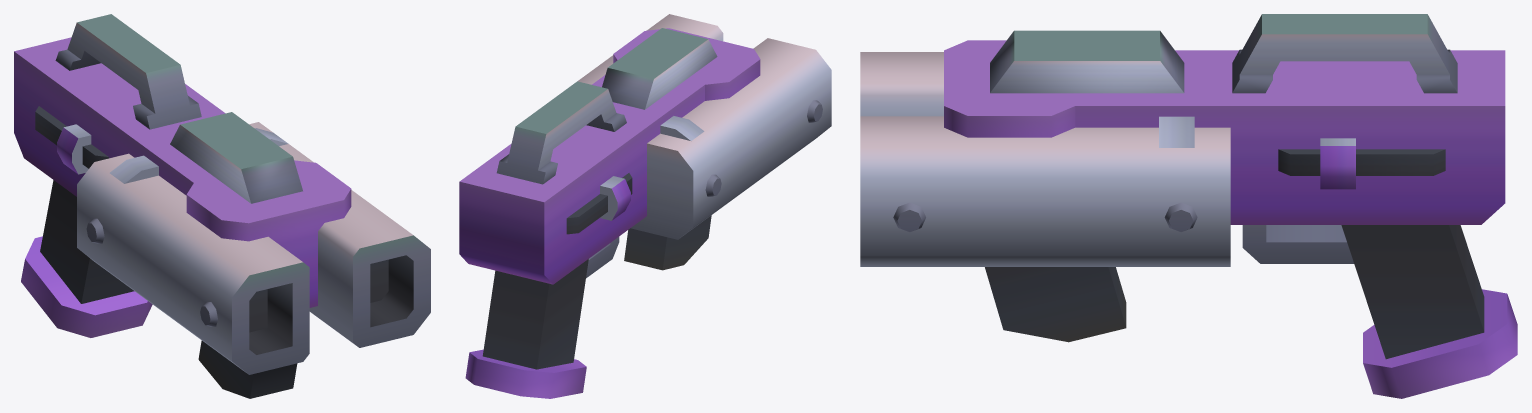
3 renders of one model, left to right at view 1: azimuth 30°, elevation 25°; view 2: azimuth 150°, elevation 25°; view 3: azimuth 270°, elevation 25°, orthographic. The views are drawn at different scales.
Visible parts, largest first — view 1: blaster-l; view 2: blaster-l; view 3: blaster-l.
Boxes of the visible parts, x1=… form: blaster-l: x1=14, y1=14, x2=430, y2=398; blaster-l: x1=459, y1=14, x2=831, y2=398; blaster-l: x1=860, y1=14, x2=1517, y2=398.
Size of the model in its own units: 0.2481 by 0.3336 by 0.56.
1 material, 1 textured.
